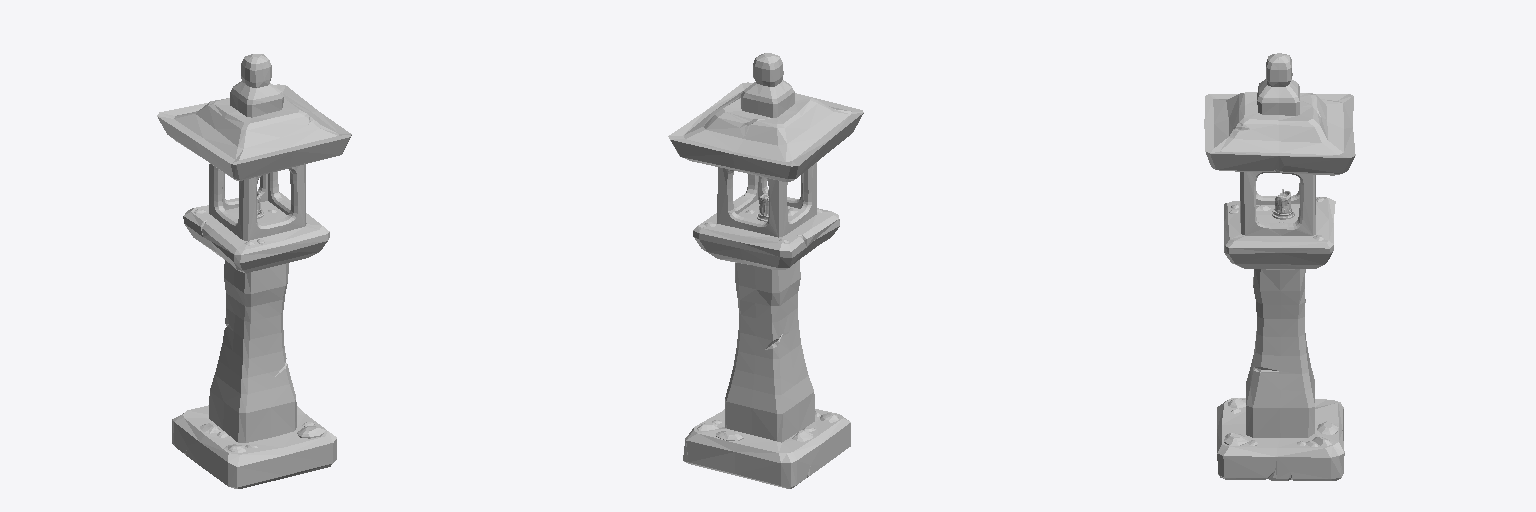
3 views of the same model, side by side, from view 1: azimuth 30°, elevation 25°; view 2: azimuth 150°, elevation 25°; view 3: azimuth 270°, elevation 25° (orthographic).
Parts seen in each view (by area): view 1: pole_low_pole_low.001; view 2: pole_low_pole_low.001; view 3: pole_low_pole_low.001.
Boxes of the visible parts, box(x1,y1,x2,y2) form: pole_low_pole_low.001: box(157, 54, 351, 488); pole_low_pole_low.001: box(668, 53, 863, 488); pole_low_pole_low.001: box(1204, 53, 1355, 480).
Size of the model in its own units: 0.5195 by 1.54 by 0.5245.
2 materials, 1 textured.